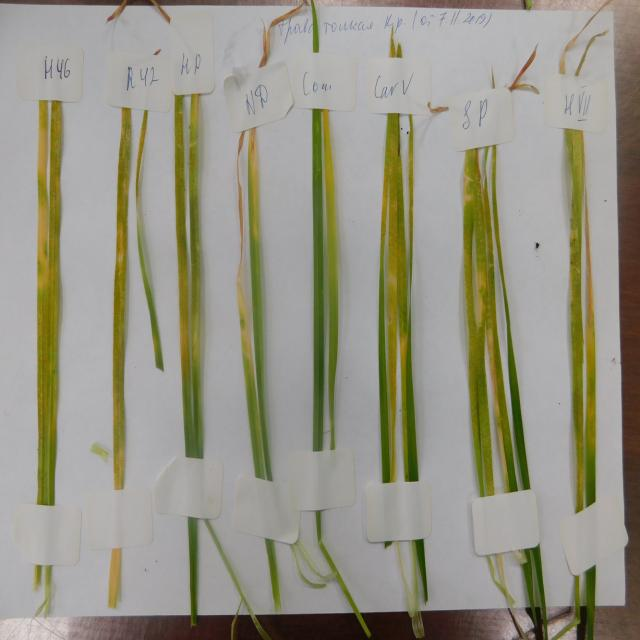wheat-yellowrust: (463, 149, 531, 499), (36, 102, 62, 508)
